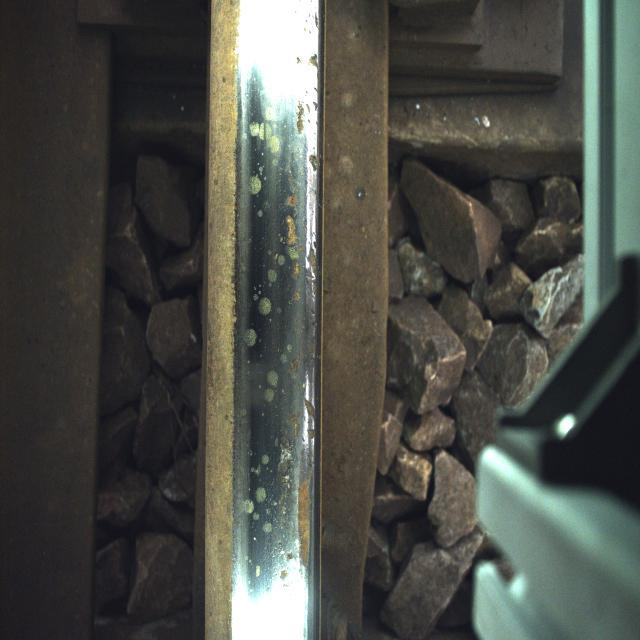scar: (238, 35, 314, 599)
